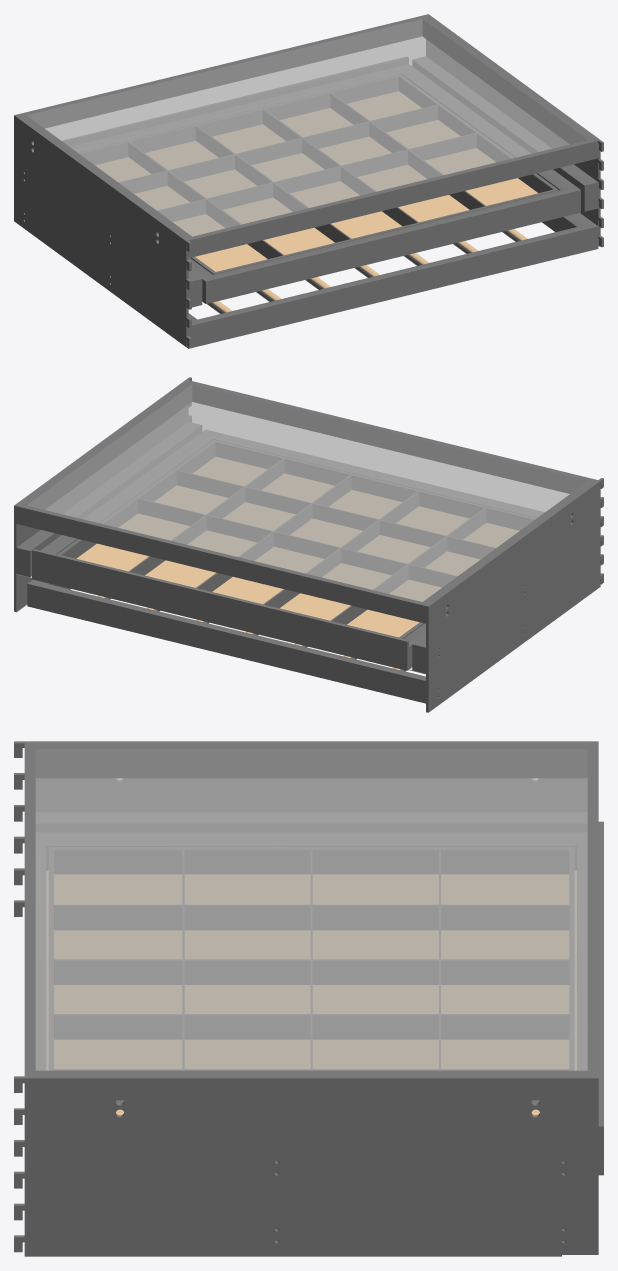
3 renders of one model, top to bottom at view 1: azimuth 30°, elevation 25°; view 2: azimuth 150°, elevation 25°; view 3: azimuth 270°, elevation 25°, orthographic. The views are drawn at different scales.
Visible parts, largest first — view 1: Geom3D (×5); view 2: Geom3D (×4); view 3: Geom3D (×4).
Boxes of the visible parts, left/top/right/bottom form: Geom3D (×5): left=14, top=14, right=603, bottom=348; Geom3D (×4): left=14, top=377, right=603, bottom=712; Geom3D (×4): left=14, top=741, right=603, bottom=1256.
Size of the model in its own units: 0.7368 by 0.1838 by 0.545.
